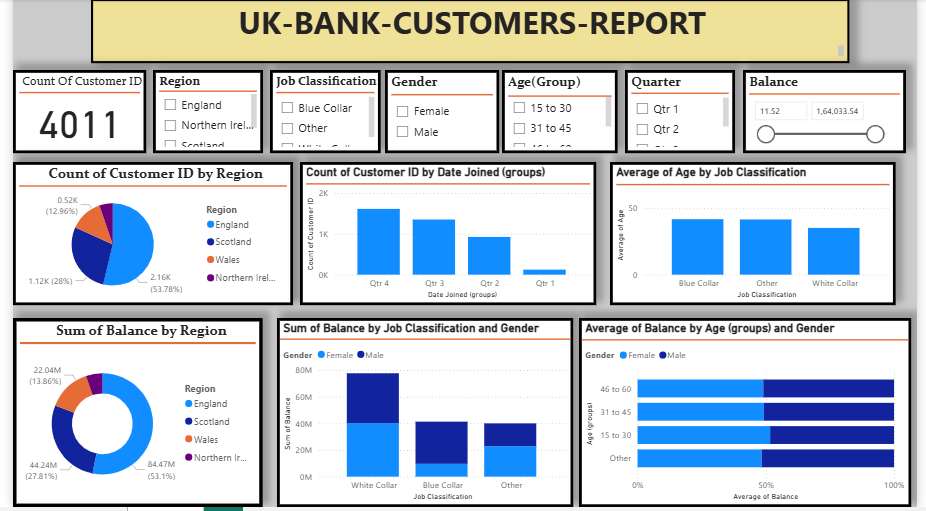

The dashboard page shown, as its layout file describes it:
{"tool":"powerbi","page":{"name":"Page 1","canvas":[1280,720],"ordinal":0},"visuals":[{"type":"textbox","title":" UK-BANK-CUSTOMERS-REPORT ","box":[110.9,0,1075.1,90.7],"z":0},{"type":"card","title":"Count Of Customer ID","fields":{"Values":["CountNonNull(P6-UK-Bank-Customers (1).Customer ID)"]},"box":[0,100.6,188.5,117.6],"z":1000},{"type":"pieChart","fields":{"Y":["CountNonNull(P6-UK-Bank-Customers (1).Customer ID)"],"Category":["P6-UK-Bank-Customers (1).Region"]},"box":[0,231,396.9,202.7],"z":2000},{"type":"donutChart","fields":{"Y":["Sum(P6-UK-Bank-Customers (1).Balance)"],"Category":["P6-UK-Bank-Customers (1).Region"]},"box":[0,452.1,354.3,267.9],"z":3000},{"type":"slicer","title":"Region","fields":{"Values":["P6-UK-Bank-Customers (1).Region"]},"box":[198.4,100.6,155.9,117.6],"z":4000},{"type":"slicer","title":"Job Classification","fields":{"Values":["P6-UK-Bank-Customers (1).Job Classification"]},"box":[364.3,100.6,157.3,117.6],"z":5000},{"type":"slicer","title":"Gender","fields":{"Values":["P6-UK-Bank-Customers (1).Gender"]},"box":[527.2,100.6,161.6,117.6],"z":6000},{"type":"slicer","title":"Age(Group)","fields":{"Values":["P6-UK-Bank-Customers (1).Age (groups)"]},"box":[693.1,100.6,164.4,117.6],"z":7000},{"type":"slicer","title":"Balance","fields":{"Values":["P6-UK-Bank-Customers (1).Balance"]},"box":[1034.6,100.6,231,117.6],"z":8000},{"type":"slicer","title":"Quarter","fields":{"Values":["P6-UK-Bank-Customers (1).Date Joined (groups)"]},"box":[867.4,100.6,155.9,117.6],"z":9000},{"type":"lineStackedColumnComboChart","fields":{"Y":["CountNonNull(P6-UK-Bank-Customers (1).Customer ID)"],"Category":["P6-UK-Bank-Customers (1).Date Joined (groups)"]},"box":[406.8,231,419.5,202.7],"z":10000},{"type":"columnChart","fields":{"Category":["P6-UK-Bank-Customers (1).Job Classification"],"Y":["Avg(P6-UK-Bank-Customers (1).Age)"]},"box":[846.1,231,405.4,202.7],"z":11000},{"type":"columnChart","fields":{"Category":["P6-UK-Bank-Customers (1).Job Classification"],"Y":["Sum(P6-UK-Bank-Customers (1).Balance)"],"Series":["P6-UK-Bank-Customers (1).Gender"]},"box":[374.2,452.1,419.5,267.9],"z":12000},{"type":"hundredPercentStackedBarChart","fields":{"Y":["Avg(P6-UK-Bank-Customers (1).Balance)"],"Category":["P6-UK-Bank-Customers (1).Age (groups)"],"Series":["P6-UK-Bank-Customers (1).Gender"]},"box":[802.2,452.1,470.6,267.9],"z":13000}]}

Visuals, with their boxes in screenshot pixels (x1, y1, x2, y2), scaled from the page's 1280x720 canvas onto the 926x511 screenshot:
" UK-BANK-CUSTOMERS-REPORT " textbox: bbox=(80, 0, 858, 64)
"Count Of Customer ID" card: bbox=(0, 71, 136, 155)
pieChart - CountNonNull(P6-UK-Bank-Customers (1).Customer ID) x P6-UK-Bank-Customers (1).Region: bbox=(0, 164, 287, 308)
donutChart - Sum(P6-UK-Bank-Customers (1).Balance) x P6-UK-Bank-Customers (1).Region: bbox=(0, 321, 256, 510)
"Region" slicer: bbox=(144, 71, 256, 155)
"Job Classification" slicer: bbox=(264, 71, 377, 155)
"Gender" slicer: bbox=(381, 71, 498, 155)
"Age(Group)" slicer: bbox=(501, 71, 620, 155)
"Balance" slicer: bbox=(748, 71, 916, 155)
"Quarter" slicer: bbox=(628, 71, 740, 155)
lineStackedColumnComboChart - CountNonNull(P6-UK-Bank-Customers (1).Customer ID) x P6-UK-Bank-Customers (1).Date Joined (groups): bbox=(294, 164, 598, 308)
columnChart - P6-UK-Bank-Customers (1).Job Classification x Avg(P6-UK-Bank-Customers (1).Age): bbox=(612, 164, 905, 308)
columnChart - P6-UK-Bank-Customers (1).Job Classification x Sum(P6-UK-Bank-Customers (1).Balance): bbox=(271, 321, 574, 510)
hundredPercentStackedBarChart - Avg(P6-UK-Bank-Customers (1).Balance) x P6-UK-Bank-Customers (1).Age (groups): bbox=(580, 321, 921, 510)
